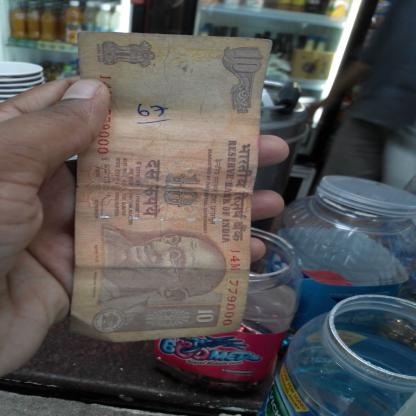Old10Front: (72, 30, 273, 344)
